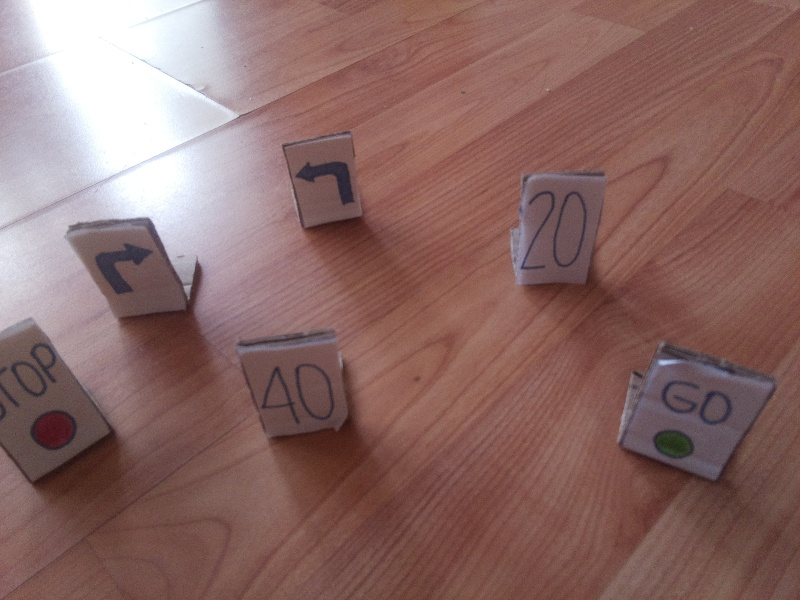20: (525, 184, 587, 276)
40: (256, 359, 338, 426)
go: (650, 373, 733, 469)
stop: (3, 339, 84, 462)
turn left: (295, 153, 356, 211)
turn right: (90, 238, 156, 300)
